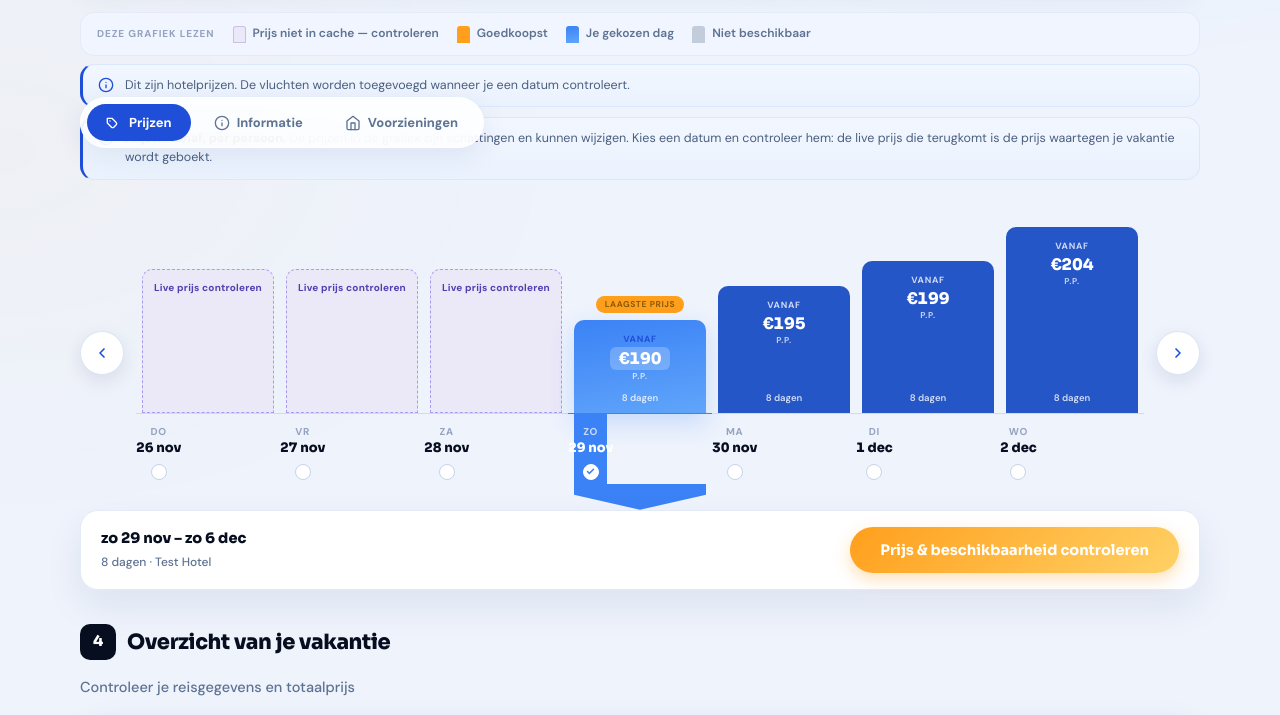
Test: the availability card spells the trip out › follows the room the traveller picks, not the cheapest one
(page scrolled)
Click the button "Laagste prijs vanaf €190 p.p. 8 dagen zo 29 nov" at (640, 356), box [568,202,712,510]
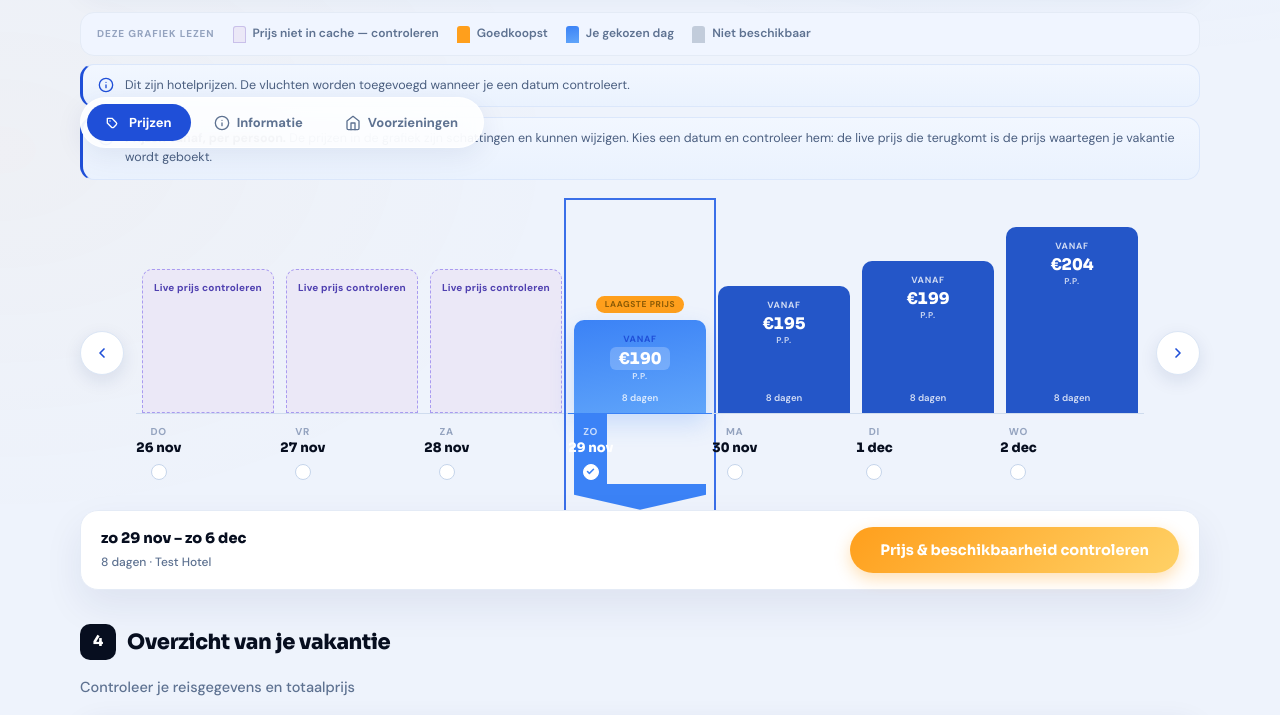
Click the button "Prijs & beschikbaarheid controleren" at (1015, 550), box [850,527,1179,573]
(page scrolled)
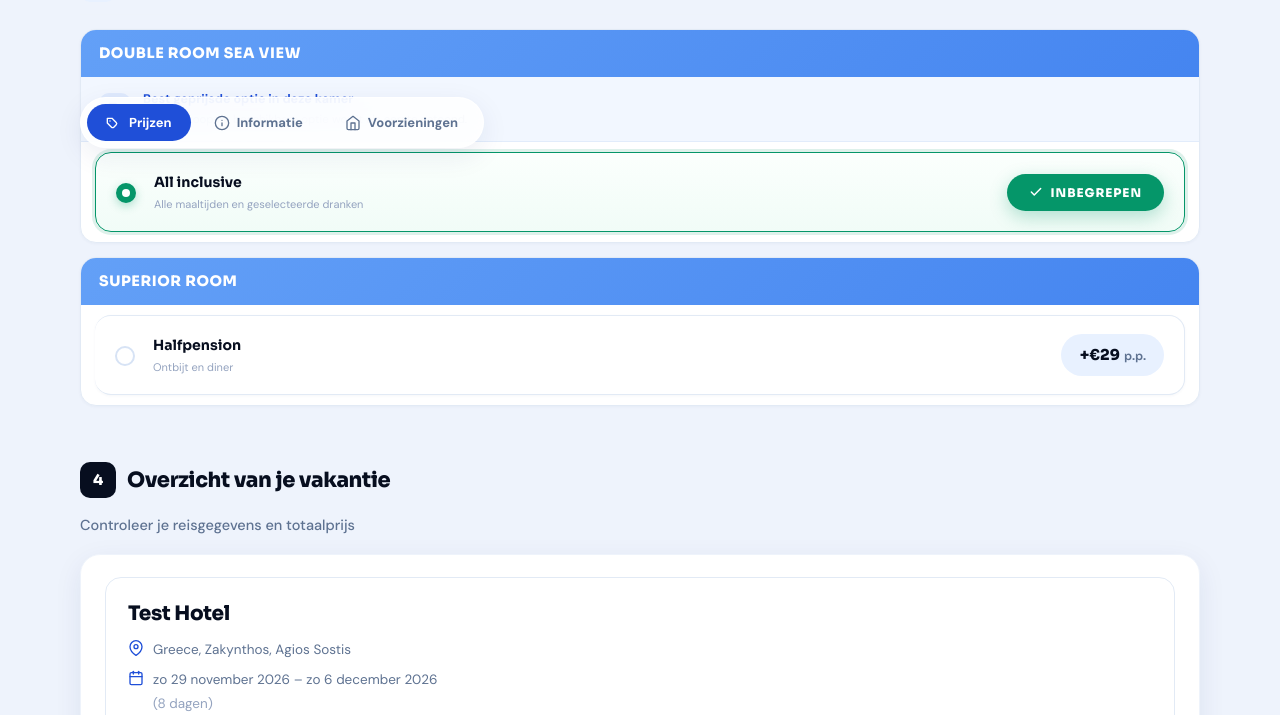
Check: the element with class "room-option" that starts with "Halfpension" is shown
Click the element with class "room-option" that starts with "Halfpension" at (640, 356), box [95,316,1185,396]
(page scrolled)
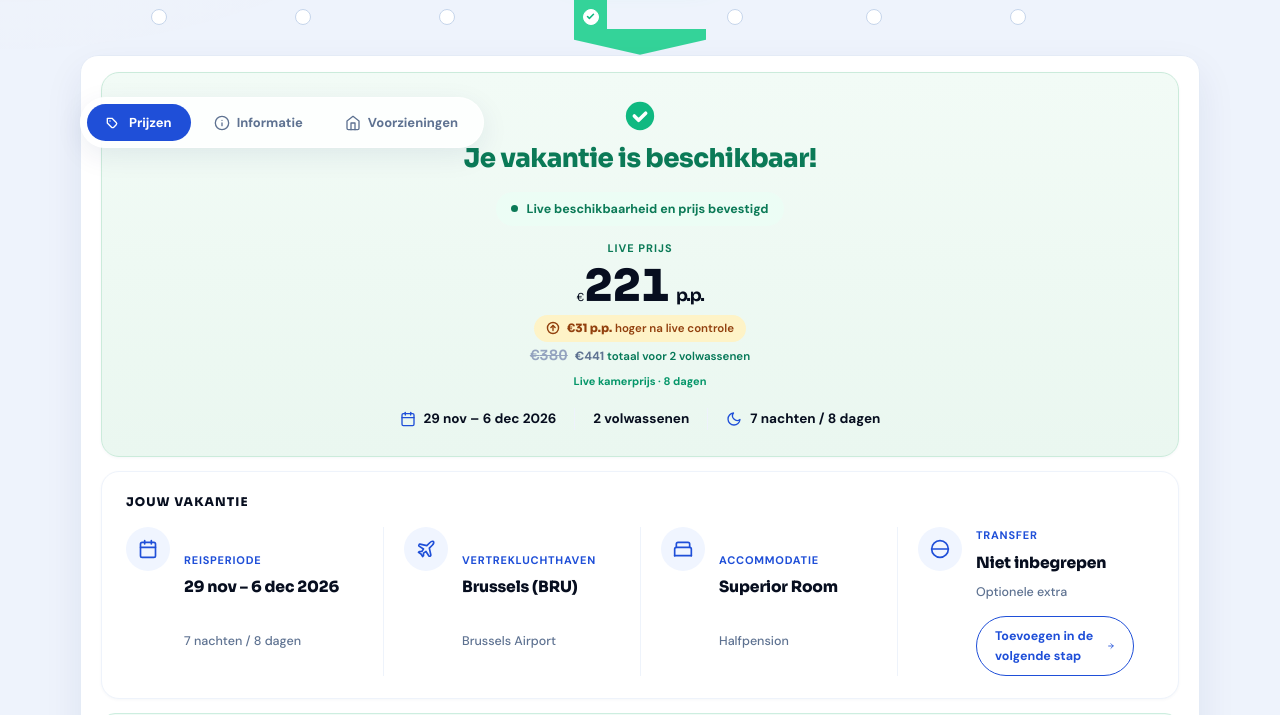
Check: the element with class "fcu-item" shows "Halfpension", box [719,633,789,649]
Check: the element with class "avail-price-val" reads "€ 221 p.p.", box [576,264,703,308]
Check: the element with class "av-price-total" shows "€441", box [530,344,750,367]
